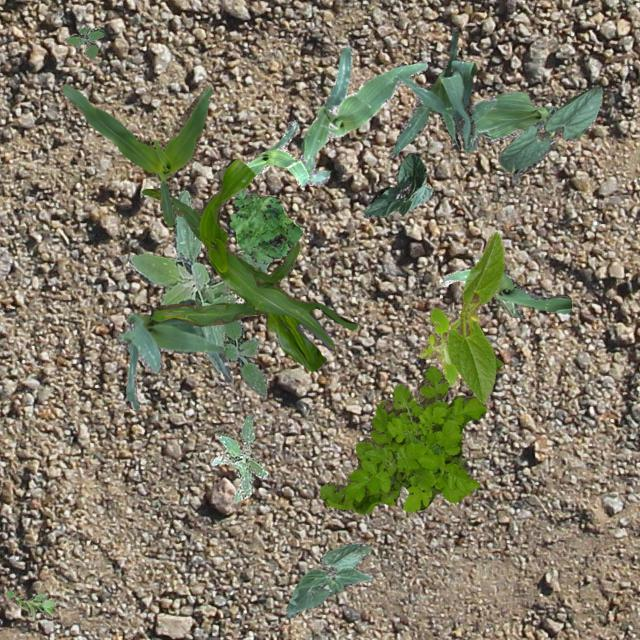crop: (140, 157, 357, 370), (59, 84, 212, 225), (298, 46, 426, 184), (116, 298, 230, 409), (388, 26, 476, 158), (446, 232, 504, 404), (498, 84, 602, 174), (438, 266, 570, 316), (284, 542, 372, 616), (468, 90, 558, 150), (362, 152, 434, 218), (244, 120, 308, 187)
weed: (318, 356, 501, 512), (127, 188, 267, 372), (228, 188, 302, 262), (210, 414, 266, 502), (223, 318, 265, 396), (418, 306, 460, 384), (6, 590, 56, 618), (64, 26, 104, 58)
